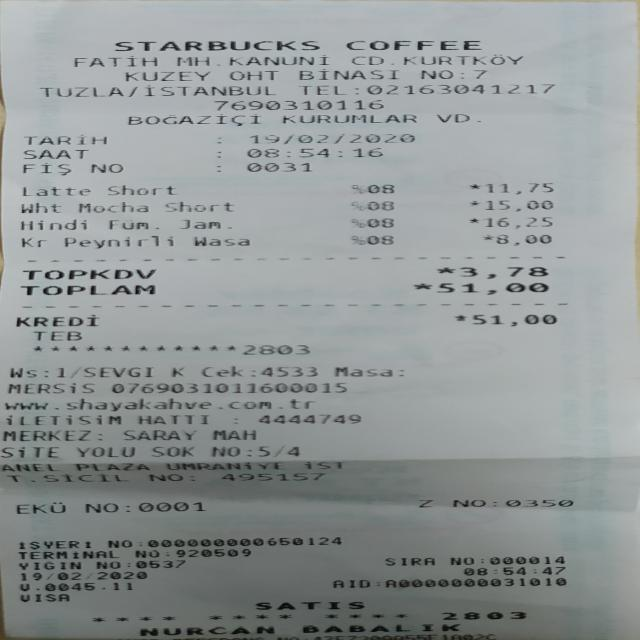text: (2, 397, 313, 412), (109, 381, 345, 395), (114, 38, 318, 52), (364, 81, 555, 95), (213, 99, 382, 111), (146, 536, 344, 546), (346, 38, 479, 52), (142, 83, 275, 97), (126, 113, 260, 126), (402, 52, 522, 66), (248, 133, 414, 143), (64, 234, 172, 249), (19, 284, 154, 296), (301, 623, 461, 633), (281, 112, 414, 124), (22, 268, 155, 280), (5, 472, 127, 484), (256, 412, 360, 426), (383, 578, 564, 586), (228, 54, 328, 68), (246, 147, 382, 157), (163, 460, 284, 471), (438, 282, 548, 294), (6, 381, 93, 396), (218, 470, 324, 482), (14, 313, 98, 328), (0, 428, 90, 442), (297, 68, 397, 80), (139, 626, 272, 635), (124, 68, 208, 82), (38, 84, 122, 98), (72, 54, 155, 68), (20, 571, 146, 580), (78, 364, 153, 379), (472, 313, 558, 326), (19, 581, 130, 591), (136, 498, 205, 514), (255, 600, 362, 610), (460, 265, 546, 277), (125, 428, 198, 442), (136, 412, 208, 426), (17, 549, 117, 559), (162, 199, 232, 213), (76, 200, 148, 213), (72, 460, 149, 472), (20, 184, 90, 197), (23, 134, 105, 145), (106, 183, 174, 196), (245, 343, 311, 356), (441, 610, 525, 620), (483, 200, 552, 212), (485, 182, 553, 194), (462, 566, 564, 574), (258, 364, 316, 378), (333, 364, 390, 378), (22, 148, 88, 160), (484, 216, 550, 228), (20, 218, 85, 230), (0, 445, 58, 458), (76, 445, 134, 458), (245, 161, 311, 172), (14, 500, 64, 514), (194, 235, 252, 247), (20, 162, 69, 176), (0, 460, 57, 472), (174, 548, 250, 557), (228, 68, 278, 81), (489, 556, 568, 564), (305, 82, 350, 96), (496, 234, 551, 245), (504, 498, 571, 507), (211, 428, 255, 441), (17, 561, 80, 570), (33, 329, 80, 341), (20, 200, 60, 214), (210, 444, 250, 458), (150, 445, 193, 458), (199, 366, 244, 378), (15, 541, 90, 548), (136, 559, 187, 569), (182, 217, 220, 230), (19, 592, 68, 602), (83, 500, 117, 514), (175, 54, 208, 68), (350, 52, 383, 66), (89, 161, 122, 175), (108, 218, 146, 230), (434, 111, 469, 124), (419, 66, 451, 80), (383, 556, 432, 565), (8, 364, 36, 379), (148, 471, 182, 483), (21, 234, 44, 250), (274, 444, 298, 458), (367, 200, 397, 211), (332, 579, 365, 588), (368, 184, 395, 195), (452, 498, 484, 507), (365, 234, 391, 245), (107, 538, 135, 548), (94, 560, 123, 569), (366, 218, 394, 227), (134, 548, 158, 558), (437, 265, 455, 277), (448, 556, 472, 565), (414, 282, 431, 294), (472, 66, 486, 80), (352, 82, 367, 95), (125, 83, 137, 98), (170, 364, 182, 379), (257, 444, 269, 458), (349, 234, 363, 245), (348, 218, 366, 226), (347, 185, 364, 193), (468, 200, 479, 212), (469, 182, 479, 195), (468, 216, 478, 229), (68, 364, 76, 379), (418, 498, 431, 507), (482, 234, 492, 245), (56, 364, 63, 379), (350, 202, 363, 210), (124, 499, 130, 514), (453, 314, 468, 320), (373, 578, 381, 588), (250, 364, 255, 378), (96, 428, 101, 442), (475, 111, 480, 124), (43, 364, 47, 379), (189, 471, 194, 483), (398, 364, 402, 378), (154, 217, 158, 230), (216, 161, 220, 173), (215, 147, 219, 158), (460, 66, 463, 80), (233, 412, 236, 426), (216, 134, 220, 144), (164, 548, 168, 558), (390, 52, 392, 66), (492, 498, 495, 507), (479, 556, 481, 565)
